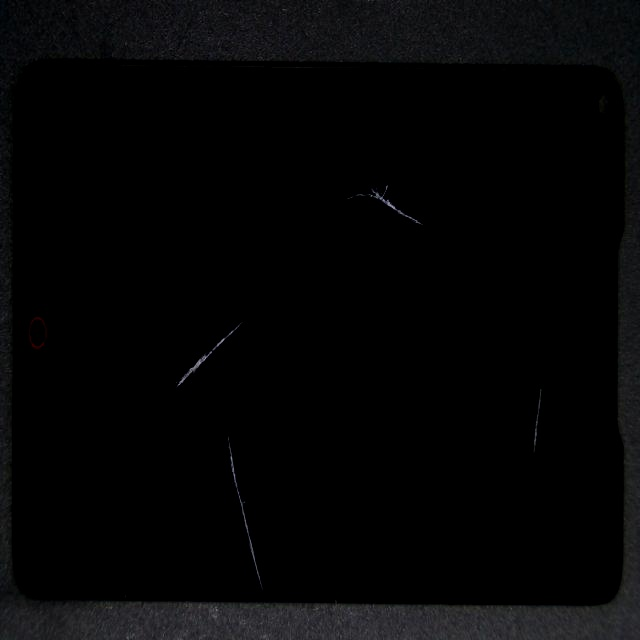scratch: (286, 229, 640, 573), (233, 68, 576, 248), (169, 119, 333, 490), (153, 390, 392, 640)
